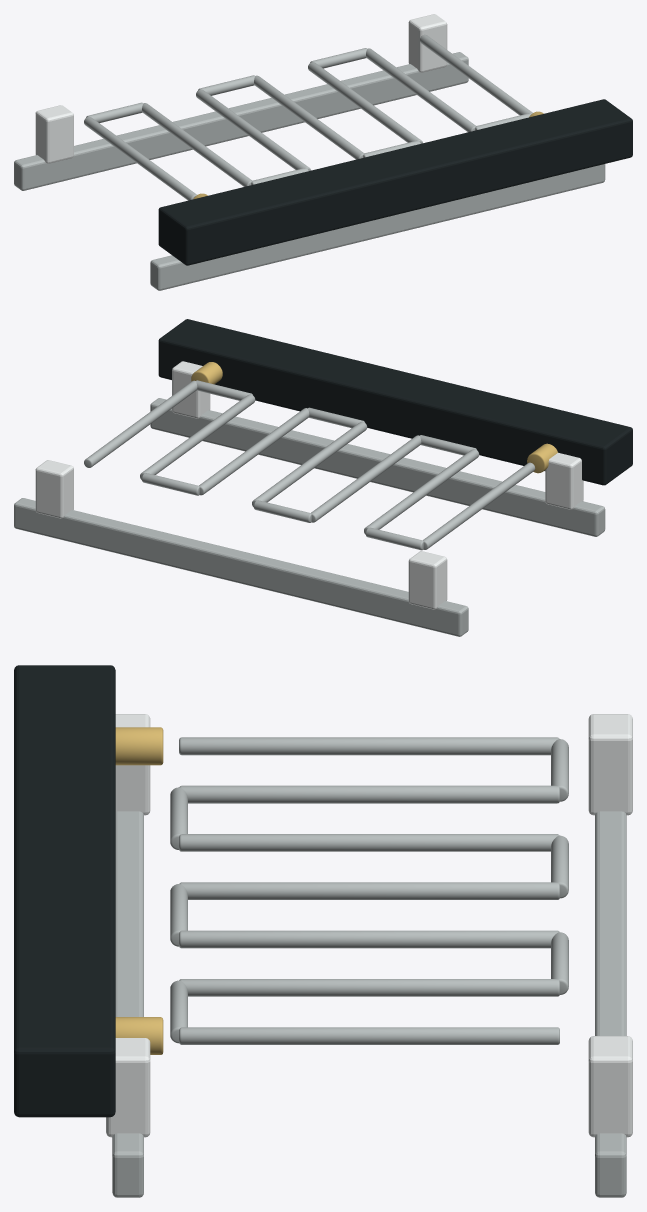
Rendered from heating_element.glb.
3 renders of one model, top to bottom at view 1: azimuth 30°, elevation 25°; view 2: azimuth 150°, elevation 25°; view 3: azimuth 270°, elevation 25°, orthographic. The views are drawn at different scales.
Visible parts, largest first — view 1: HEATER_terminal_cover, HEATER_rail_0.19, HEATER_rail_-0.19, HEATER_insulator_-0.3_0.19, HEATER_insulator_0.3_0.19, HEATER_element_0, HEATER_element_3, HEATER_element_5, HEATER_element_1, HEATER_element_2, HEATER_element_4, HEATER_element_6 (+3 smaller); view 2: HEATER_terminal_cover, HEATER_rail_0.19, HEATER_rail_-0.19, HEATER_insulator_-0.3_0.19, HEATER_insulator_0.3_0.19, HEATER_insulator_-0.3_-0.19, HEATER_element_6, HEATER_element_0, HEATER_element_2, HEATER_element_4, HEATER_element_3, HEATER_element_5 (+10 smaller); view 3: HEATER_terminal_cover, HEATER_rail_0.19, HEATER_rail_-0.19, HEATER_element_0, HEATER_element_4, HEATER_element_1, HEATER_element_6, HEATER_element_3, HEATER_element_2, HEATER_element_5, HEATER_insulator_-0.3_0.19, HEATER_insulator_0.3_0.19 (+10 smaller).
Part boxes in pixels (box(x1,y1,x2,y2)): HEATER_terminal_cover: box(158, 99, 632, 265); HEATER_rail_0.19: box(14, 52, 468, 190); HEATER_rail_-0.19: box(150, 164, 605, 290); HEATER_insulator_-0.3_0.19: box(35, 105, 73, 163); HEATER_insulator_0.3_0.19: box(408, 14, 447, 72); HEATER_element_0: box(84, 116, 196, 200); HEATER_element_3: box(254, 75, 363, 159); HEATER_element_5: box(366, 48, 475, 132); HEATER_element_1: box(142, 103, 252, 186); HEATER_element_2: box(196, 89, 311, 170); HEATER_element_4: box(308, 62, 422, 143); HEATER_element_6: box(420, 34, 532, 115); HEATER_terminal_cover: box(158, 319, 632, 485); HEATER_rail_0.19: box(14, 498, 468, 636); HEATER_rail_-0.19: box(150, 398, 605, 536); HEATER_insulator_-0.3_0.19: box(408, 551, 447, 609); HEATER_insulator_0.3_0.19: box(35, 460, 73, 518); HEATER_insulator_-0.3_-0.19: box(545, 452, 583, 509); HEATER_element_6: box(84, 380, 197, 467); HEATER_element_0: box(423, 462, 535, 549); HEATER_element_2: box(311, 435, 421, 522); HEATER_element_4: box(199, 408, 309, 495); HEATER_element_3: box(252, 421, 367, 506); HEATER_element_5: box(140, 394, 255, 479); HEATER_terminal_cover: box(14, 665, 115, 1117); HEATER_rail_0.19: box(595, 811, 626, 1197); HEATER_rail_-0.19: box(112, 811, 143, 1197); HEATER_element_0: box(179, 737, 559, 755); HEATER_element_4: box(179, 930, 559, 948); HEATER_element_1: box(179, 785, 559, 803); HEATER_element_6: box(179, 1027, 559, 1044); HEATER_element_3: box(179, 882, 559, 899); HEATER_element_2: box(179, 834, 559, 851); HEATER_element_5: box(179, 979, 559, 996); HEATER_insulator_-0.3_0.19: box(588, 714, 632, 815); HEATER_insulator_0.3_0.19: box(588, 1036, 632, 1137).
Size of the model in its own units: 0.72 by 0.13 by 0.4875.
